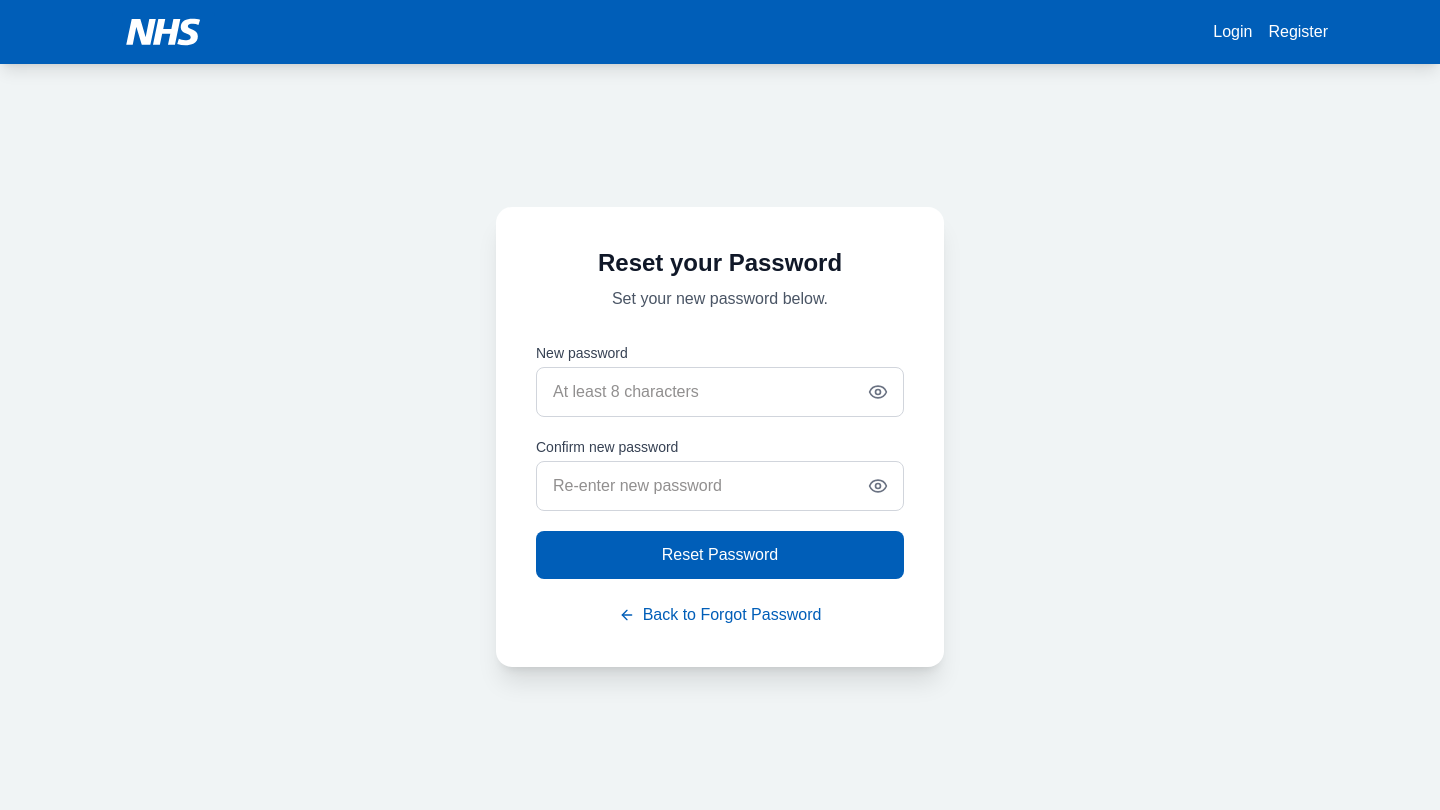
Test: ResetPasswordPage › toggles password visibility and completes reset flow
Click the 1st button at x=878, y=392, box [868,382,888,402]
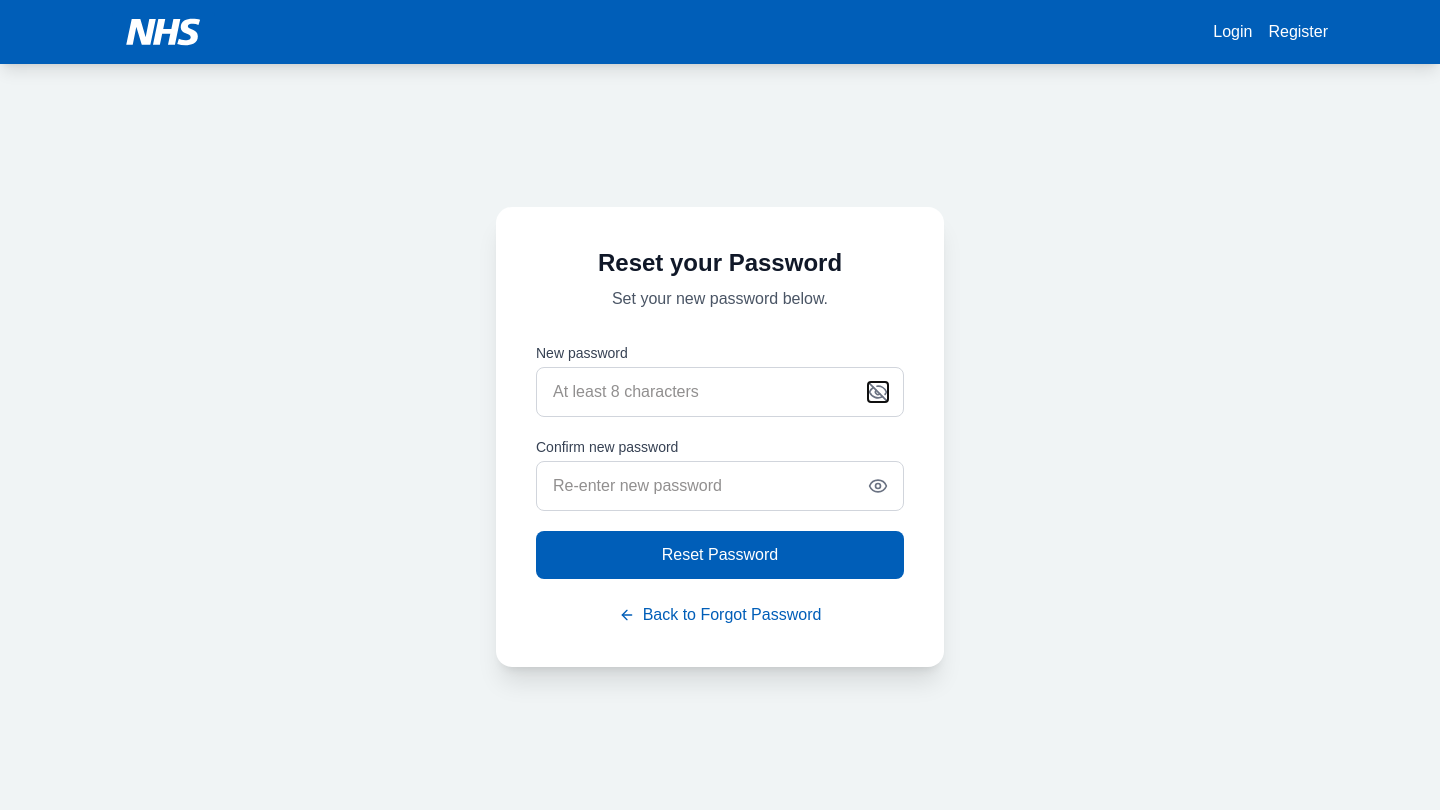
Click the button named "show confirm password" at x=878, y=486, box [868,476,888,496]
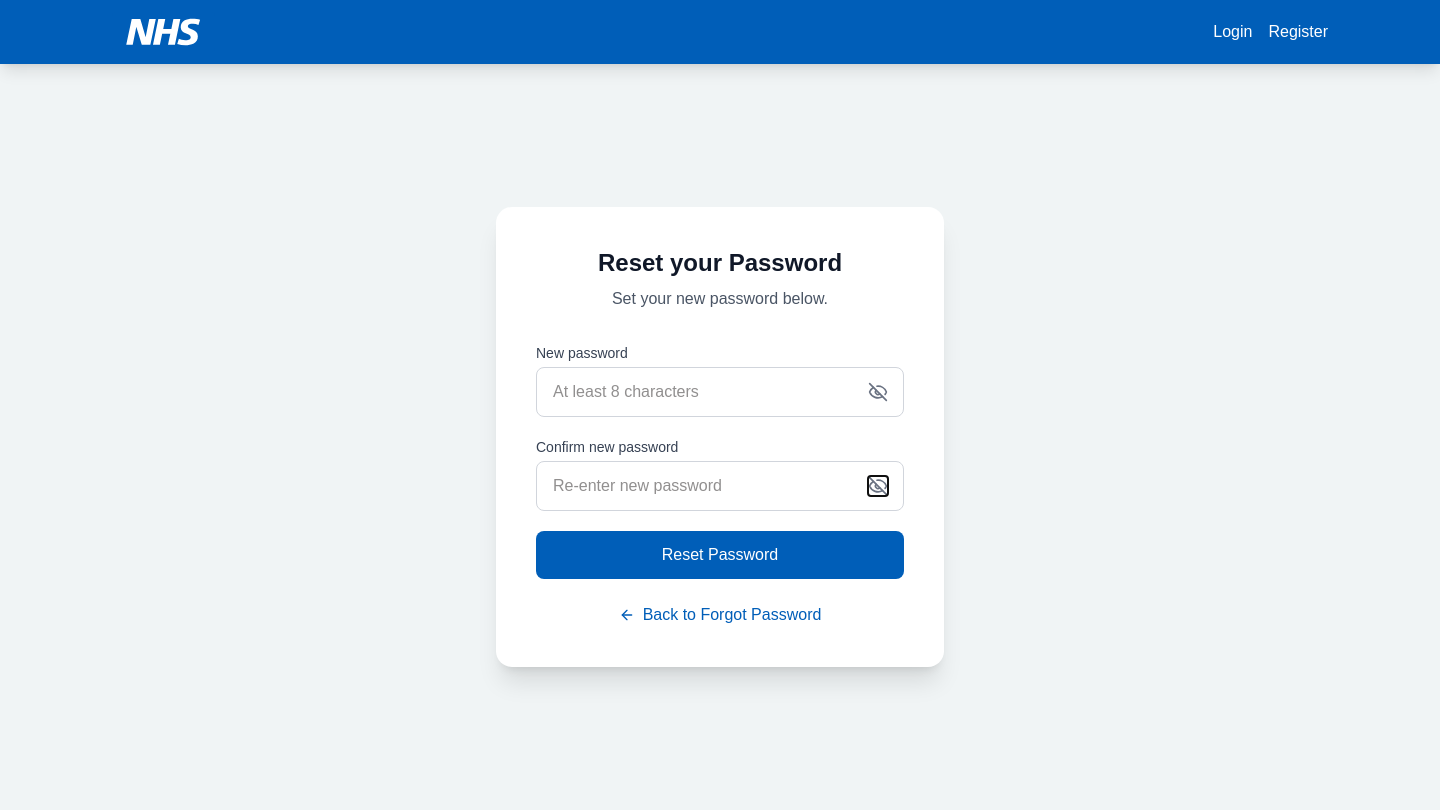
Type "Password1!" into the field labelled "New password" at x=720, y=392, box [536,367,904,417]
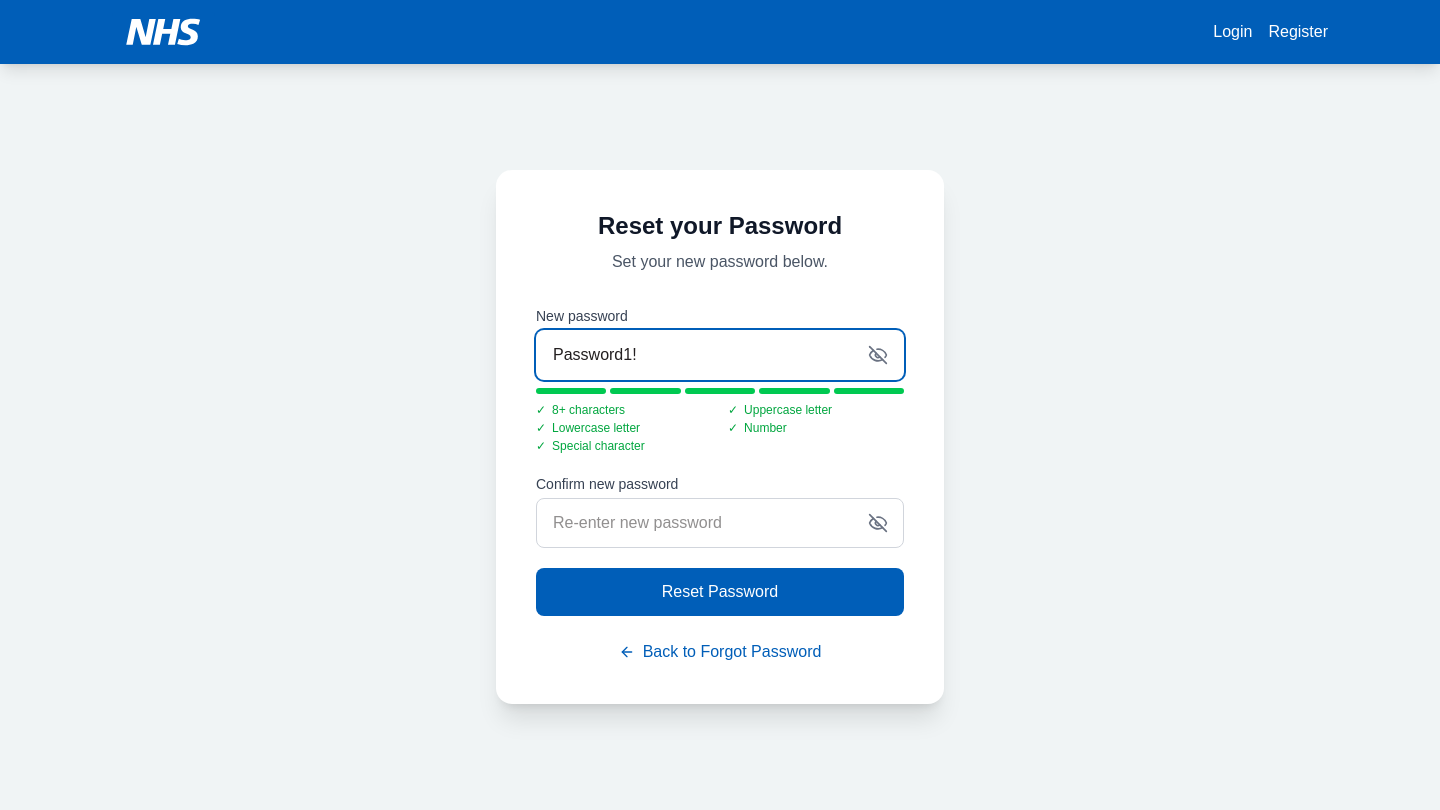
Type "Password1!" into the field labelled "Confirm new password" at x=720, y=523, box [536,498,904,548]
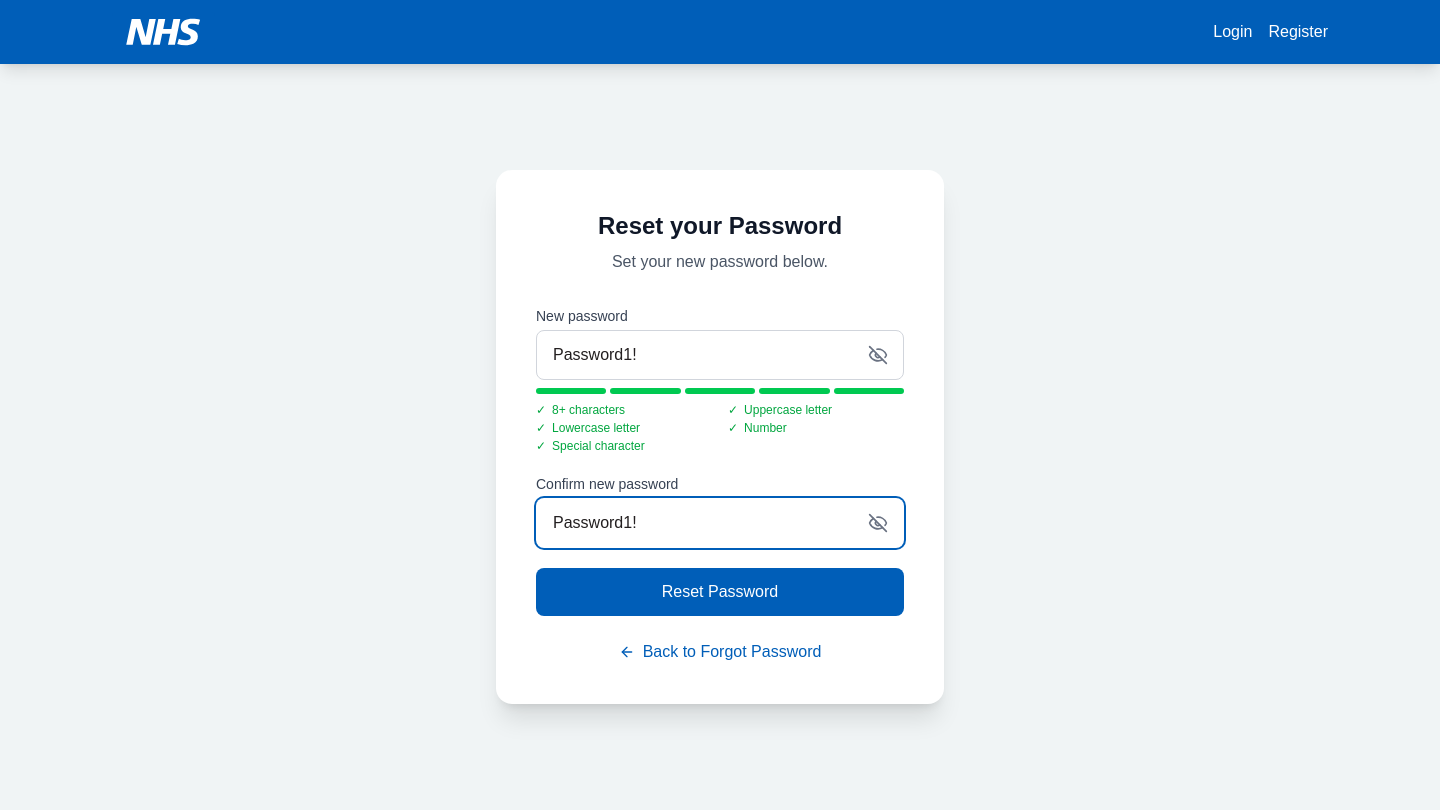
Click the button "Reset Password" at x=720, y=592, box [536,568,904,616]
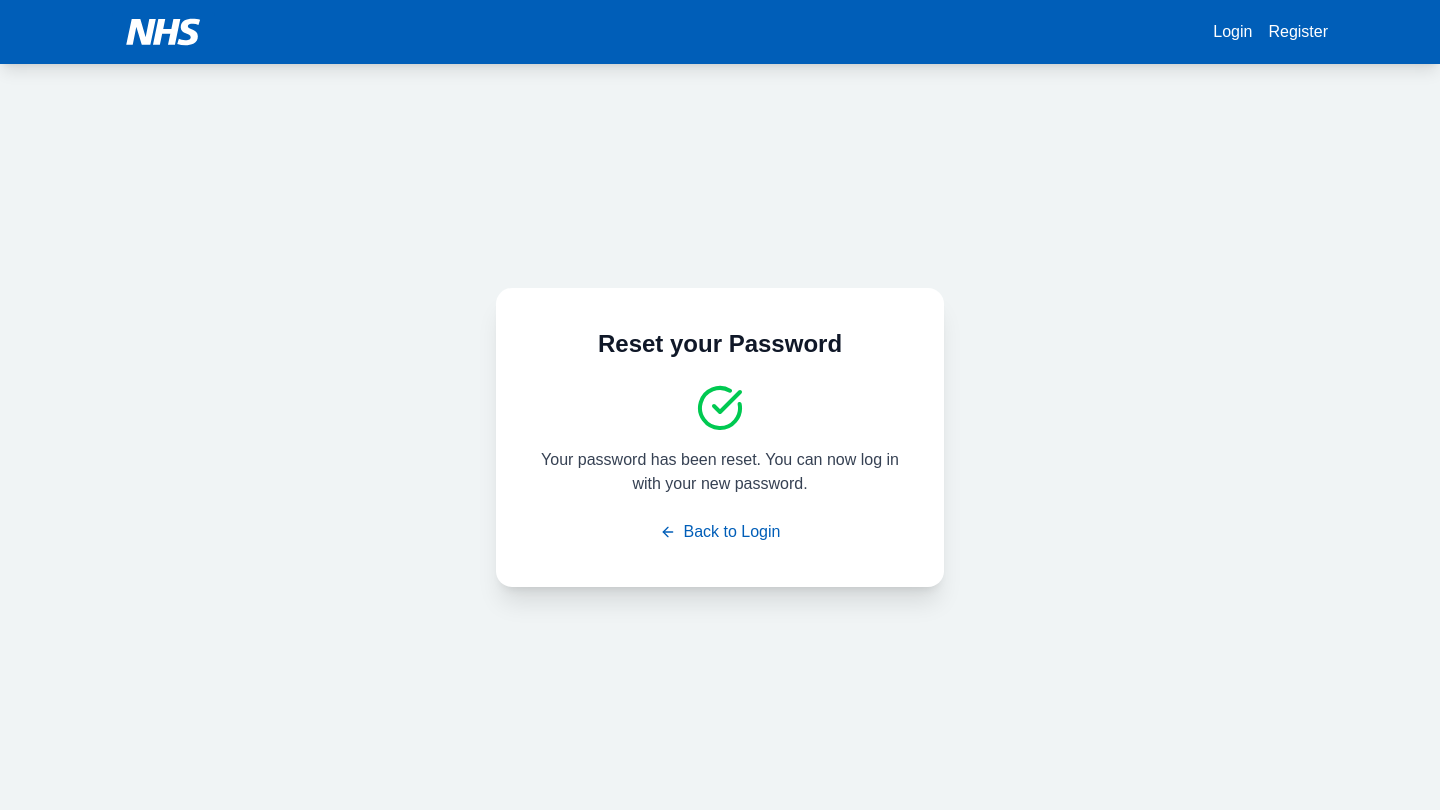
Check: the text "Your password has been reset" is shown, box [541,450,899,492]
